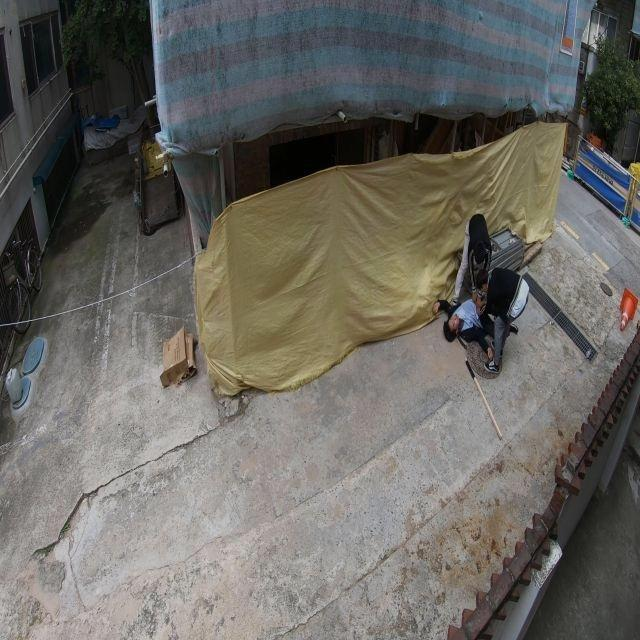fight: (435, 208, 524, 375)
